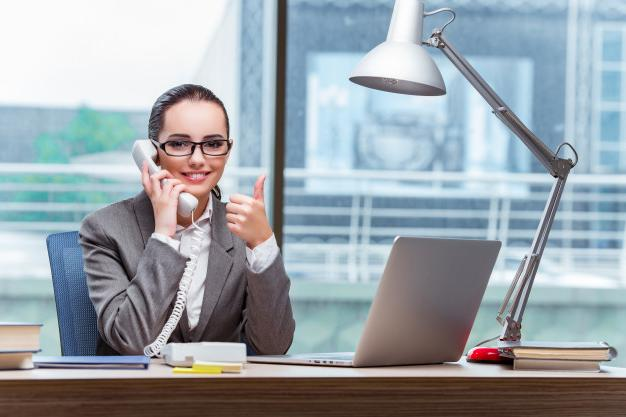thumbsup: (225, 173, 268, 232)
